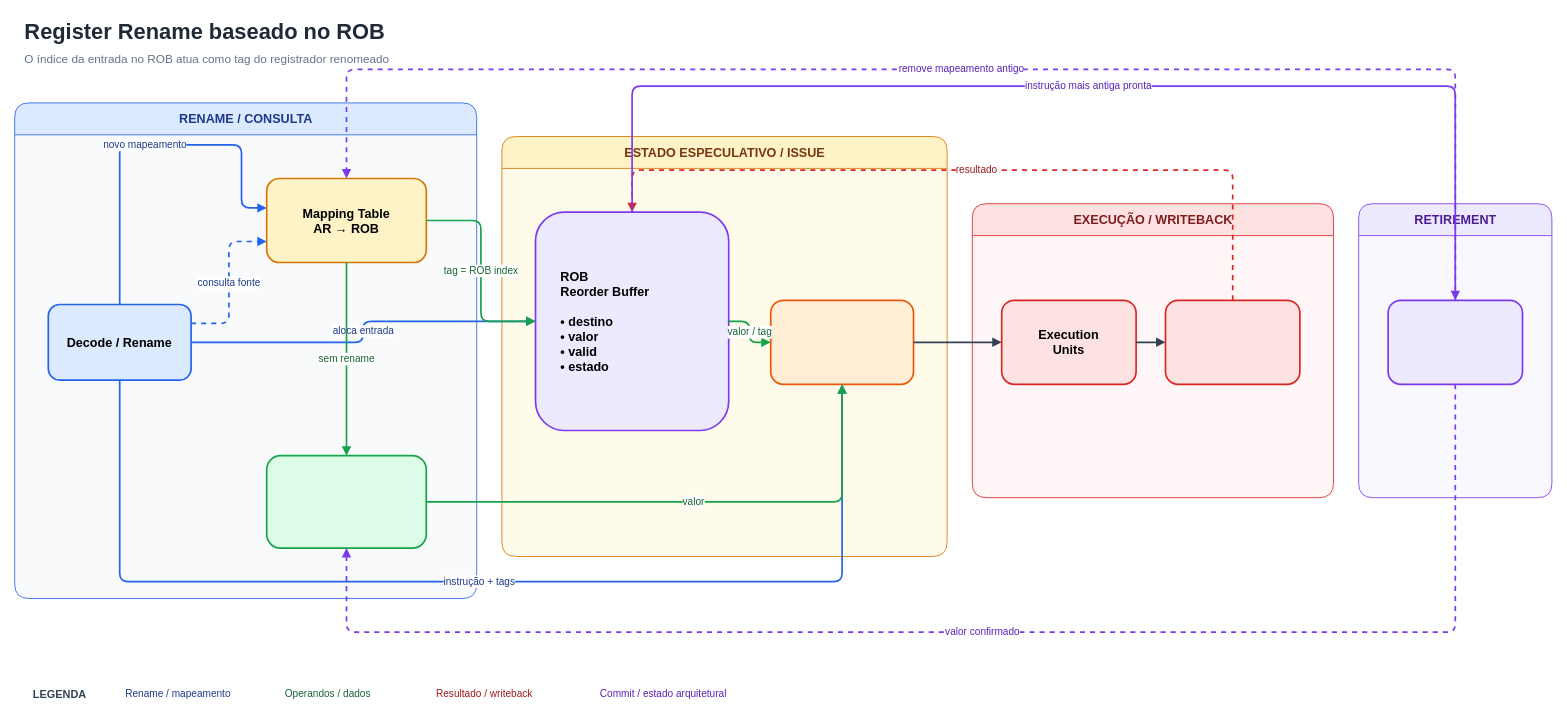
Some shapes in this 1567 by 717 pixel diagram are drawn without their labels. The centre of each missing label's shape, as x and y in pixels:
ARF Architectural Register File: point 346,501
Commit / Retirement: point 1455,342
Reservation Stations: point 841,342
Writeback: point 1232,342
